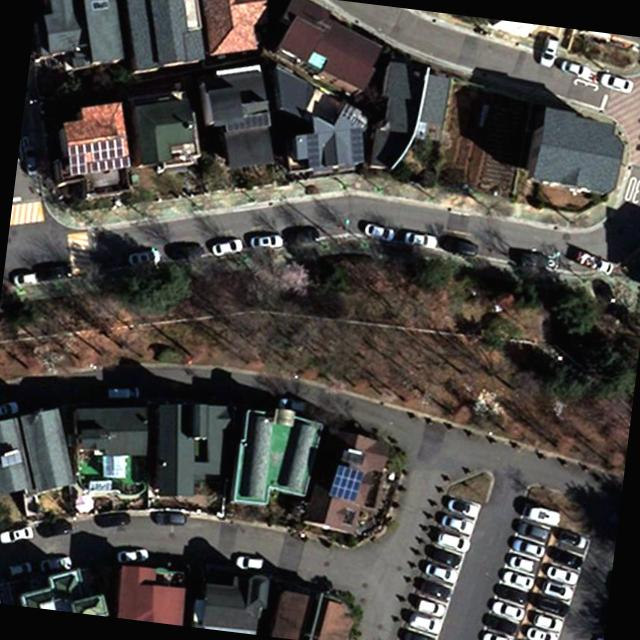solar: (60, 130, 138, 184), (326, 462, 366, 504)
